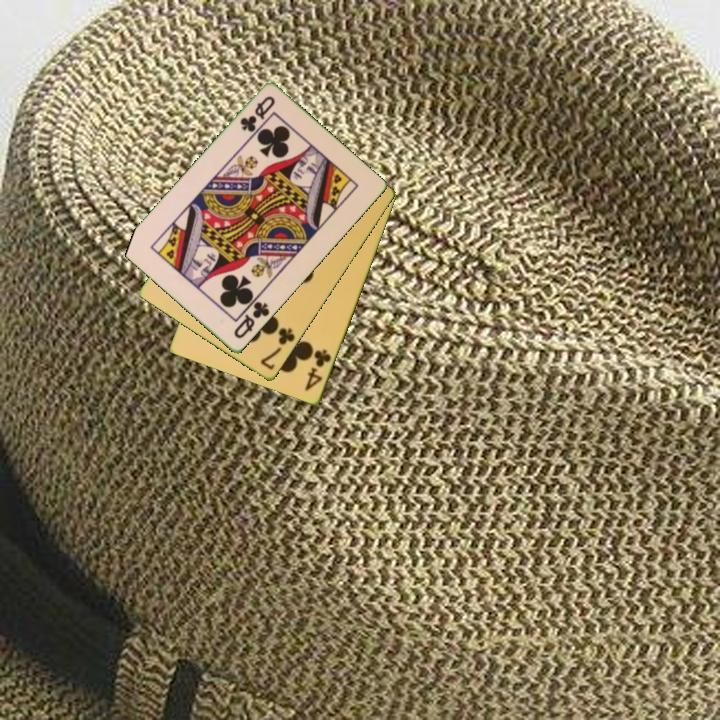4c: (302, 346, 334, 395)
7c: (257, 324, 298, 374)
Qc: (230, 298, 273, 342), (236, 93, 278, 136)
